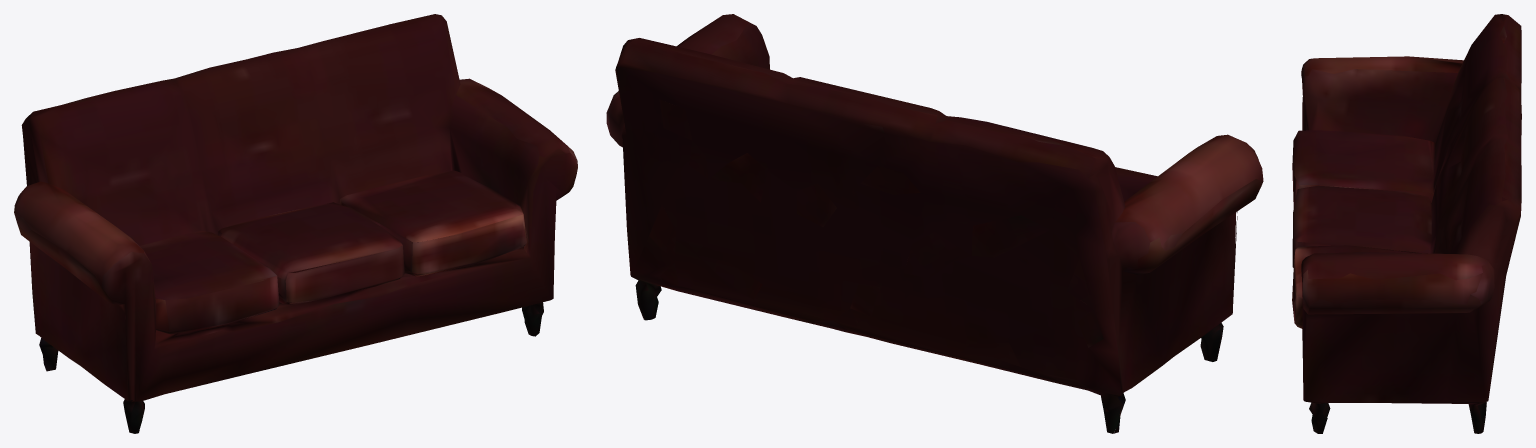
Rendered from sofa.movil.glb.
3 renders of one model, left to right at view 1: azimuth 30°, elevation 25°; view 2: azimuth 150°, elevation 25°; view 3: azimuth 270°, elevation 25°, orthographic. The views are drawn at different scales.
Parts seen in each view (by area): view 1: geometry_0; view 2: geometry_0; view 3: geometry_0.
Boxes of the visible parts, x1,y1,x2,y2 form: geometry_0: (14, 14, 577, 433); geometry_0: (606, 14, 1263, 433); geometry_0: (1292, 14, 1521, 433).
Size of the model in its own units: 1.8 by 0.8993 by 0.7955.
Materials: 1 (1 with a texture image).
